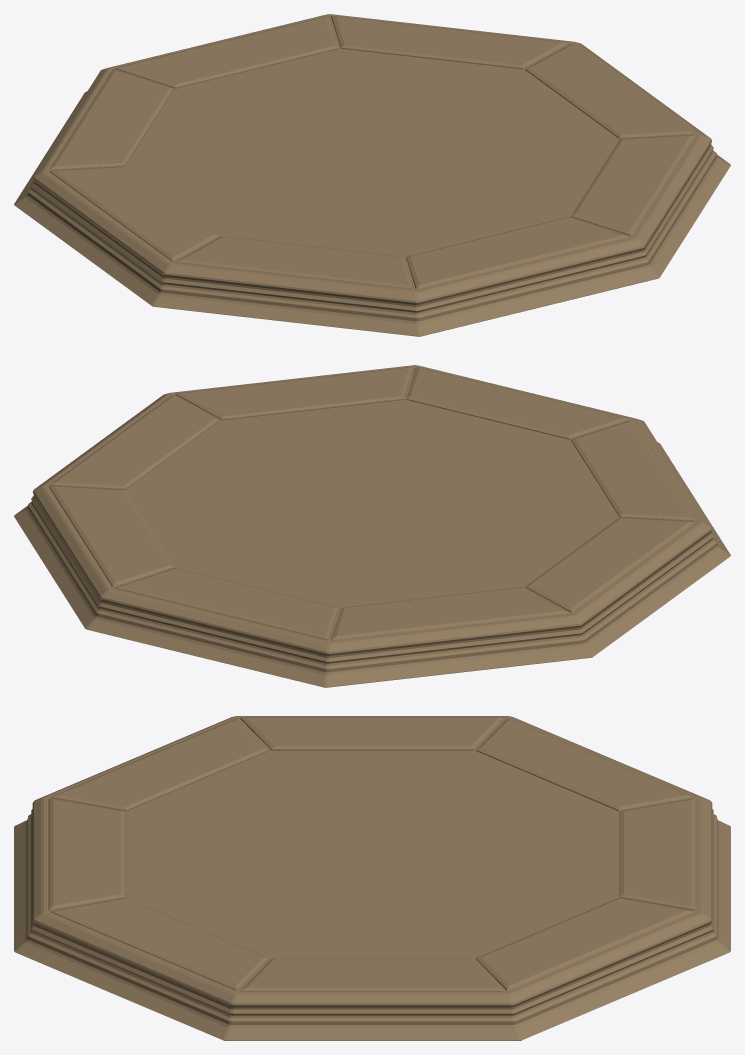
File: SM_BaseTable_Frame.fbx
3 renders of one model, top to bottom at view 1: azimuth 30°, elevation 25°; view 2: azimuth 150°, elevation 25°; view 3: azimuth 270°, elevation 25°, orthographic. The views are drawn at different scales.
Parts seen in each view (by area): view 1: BaseTable_Frame; view 2: BaseTable_Frame; view 3: BaseTable_Frame.
Boxes of the visible parts, x1=… form: BaseTable_Frame: x1=14, y1=14, x2=730, y2=336; BaseTable_Frame: x1=14, y1=365, x2=730, y2=687; BaseTable_Frame: x1=14, y1=716, x2=730, y2=1040.
Size of the model in its own units: 225 by 12.91 by 225.
